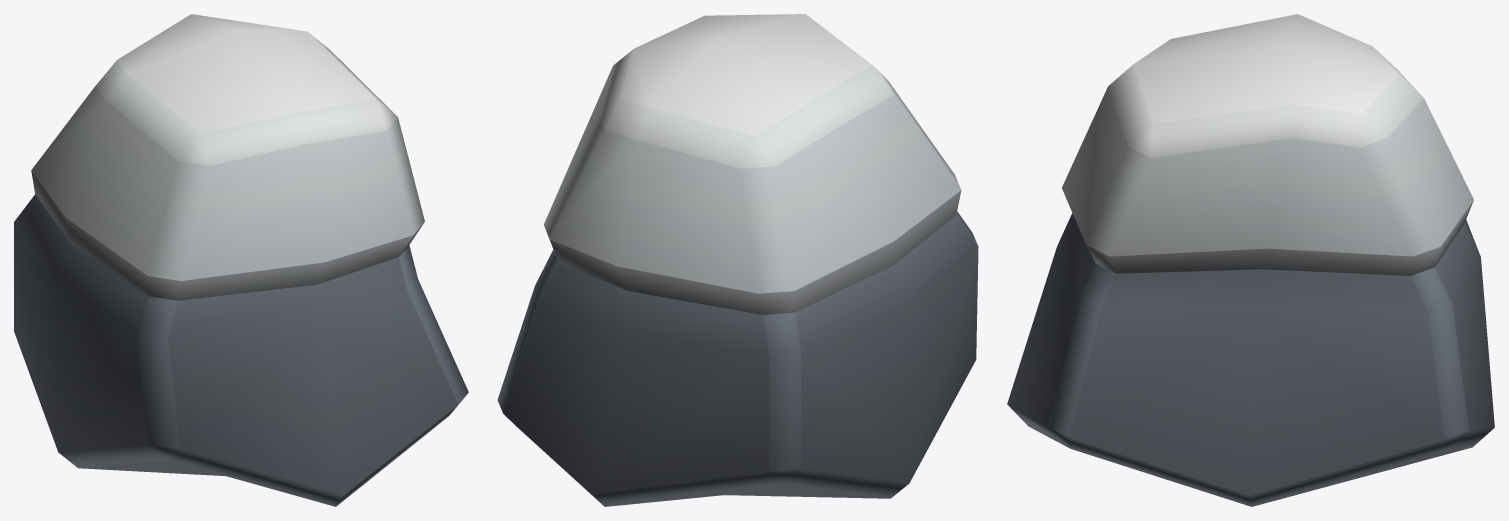
File: rock_snow_04.fbx
The picture shows the model from 3 angles, left to right: view 1: azimuth 30°, elevation 25°; view 2: azimuth 150°, elevation 25°; view 3: azimuth 270°, elevation 25°; orthographic projection. The views are drawn at different scales.
Visible parts, largest first — view 1: rock_snow_04; view 2: rock_snow_04; view 3: rock_snow_04.
Part boxes in pixels (<box>): rock_snow_04: <box>14,14,468,506</box>; rock_snow_04: <box>497,14,978,506</box>; rock_snow_04: <box>1007,14,1494,506</box>.
Size of the model in its own units: 82.62 by 111 by 107.
